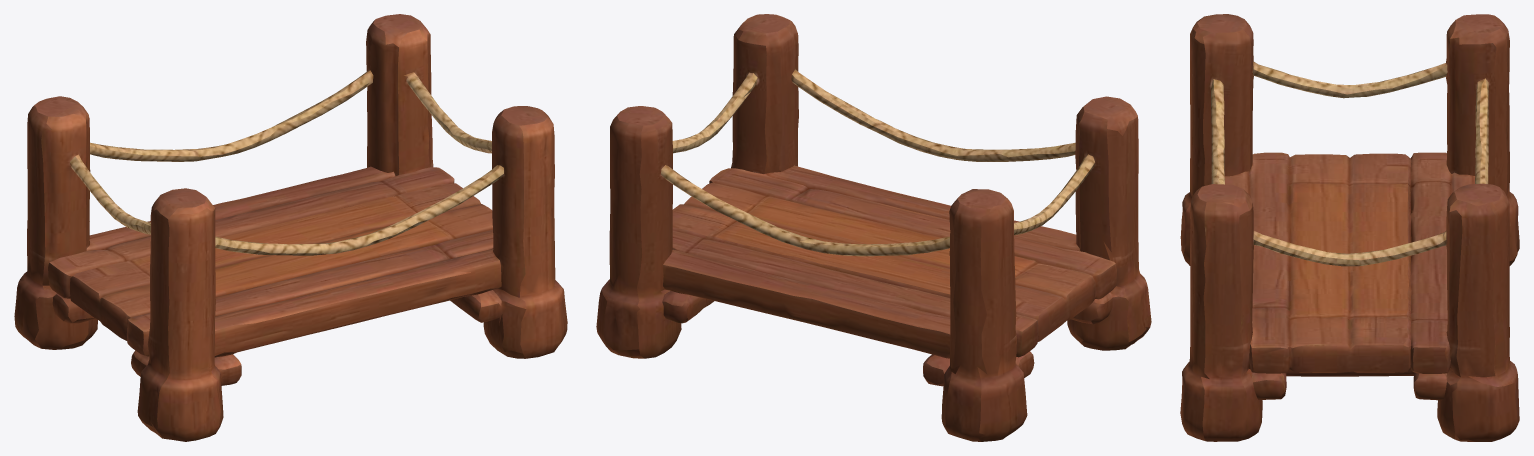
The model's file is lg-wooden-bridge-long.glb.
3 views of the same model, side by side, from view 1: azimuth 30°, elevation 25°; view 2: azimuth 150°, elevation 25°; view 3: azimuth 270°, elevation 25° (orthographic). The views are drawn at different scales.
Visible parts, largest first — view 1: geometry_0; view 2: geometry_0; view 3: geometry_0.
Part boxes in pixels (x1,y1,x2,y2): geometry_0: (14, 14, 567, 441); geometry_0: (596, 14, 1151, 441); geometry_0: (1180, 14, 1519, 441).
Bounding box in the file's own units: 1 × 0.5312 × 0.6942.
Materials: 1 (1 with a texture image).
